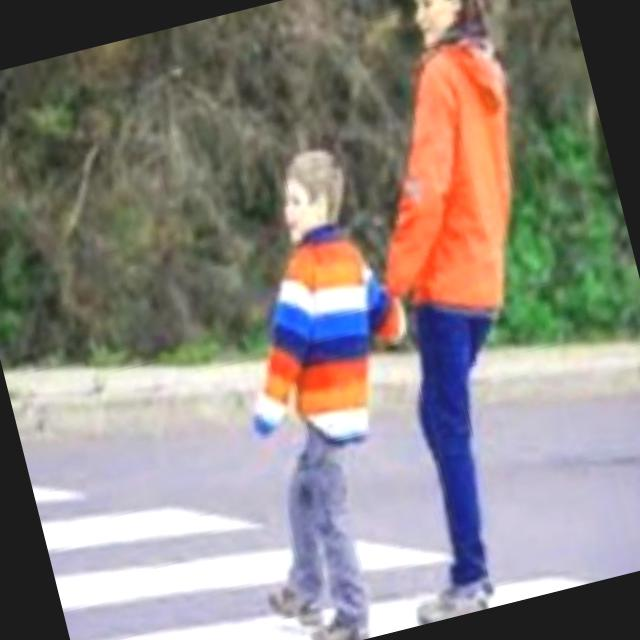Person: (265, 0, 640, 622), (169, 126, 481, 640)
